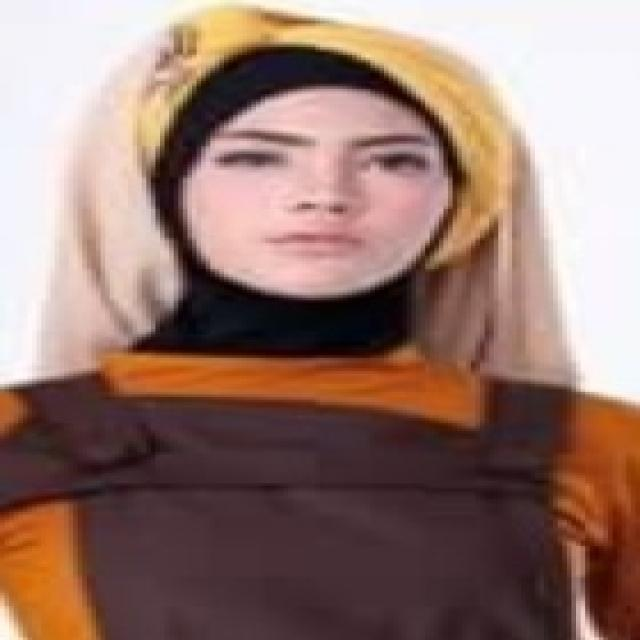head: (115, 21, 521, 305)
